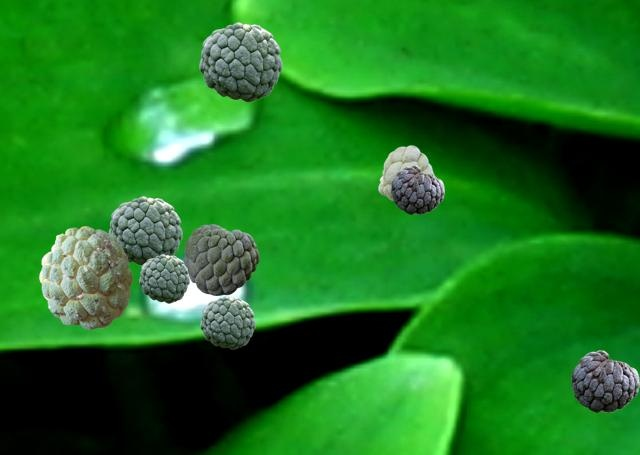atis: (39, 226, 131, 328), (199, 22, 281, 101), (184, 224, 258, 294), (108, 196, 181, 265), (571, 350, 638, 411), (378, 145, 435, 200), (200, 296, 254, 348), (391, 165, 443, 213), (139, 254, 188, 302)
